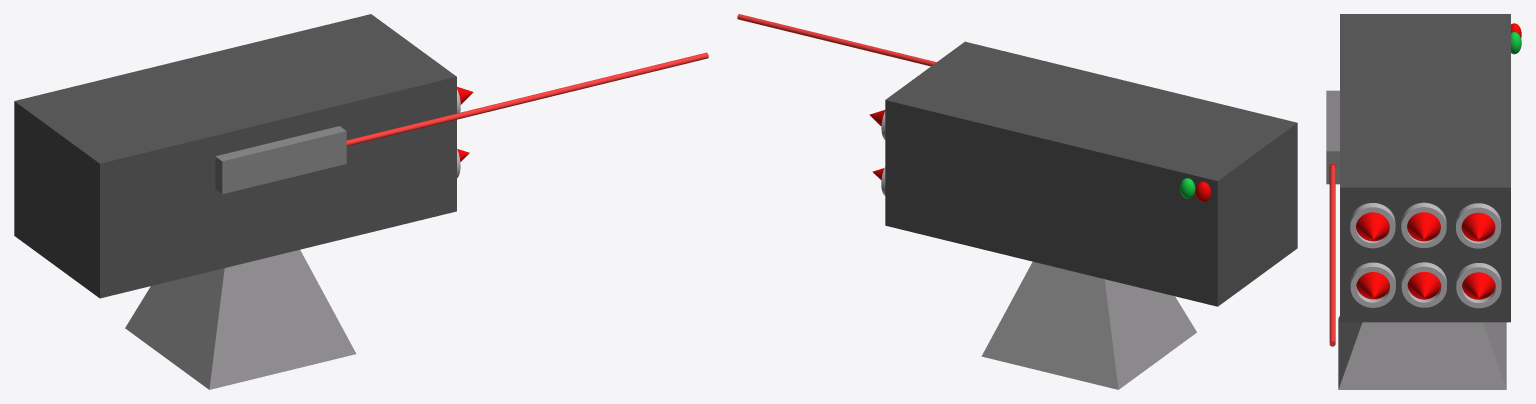
File: launcher.fbx
3 views of the same model, side by side, from view 1: azimuth 30°, elevation 25°; view 2: azimuth 150°, elevation 25°; view 3: azimuth 270°, elevation 25° (orthographic). The views are drawn at different scales.
Parts seen in each view (by area): view 1: node_id94, node_id97, node_id38, node_id28; view 2: node_id94, node_id97, node_id28; view 3: node_id94, node_id97, node_id28, node_id38, node_id60, node_id54, node_id57, node_id64, node_id67, node_id70, node_id77, node_id74 (+5 smaller).
Part boxes in pixels (x1,y1,x2,y2): node_id94: (14,14,456,298); node_id97: (125,250,356,389); node_id38: (215,126,346,194); node_id28: (346,52,708,146); node_id94: (885,41,1297,306); node_id97: (981,261,1196,389); node_id28: (737,14,936,66); node_id94: (1340,14,1510,322); node_id97: (1338,316,1506,389); node_id28: (1329,165,1335,346); node_id38: (1326,90,1339,184); node_id60: (1456,263,1501,308); node_id54: (1350,262,1395,307); node_id57: (1401,262,1446,307); node_id64: (1350,203,1395,248); node_id67: (1401,202,1446,248); node_id70: (1456,203,1501,248); node_id77: (1407,212,1440,241); node_id74: (1356,212,1389,241).
Size of the model in its own units: 0.512 by 0.2044 by 0.144.
Materials: 19 (19 with a texture image).
